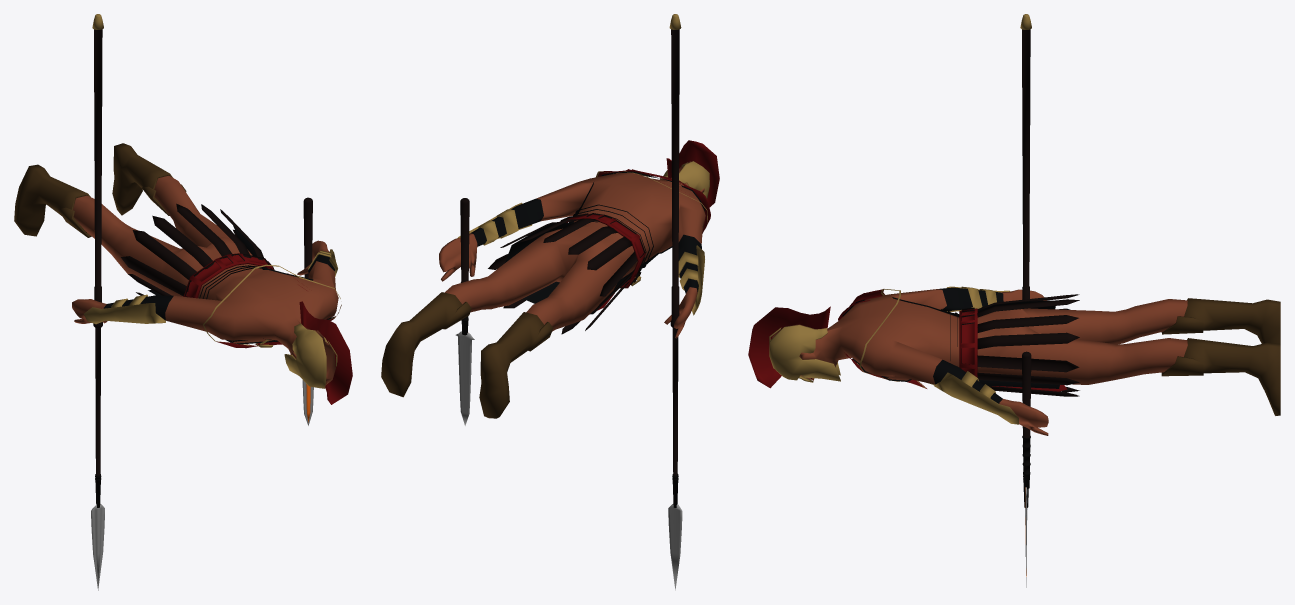
Rendered from soldier.obj.
The picture shows the model from 3 angles, left to right: view 1: azimuth 30°, elevation 25°; view 2: azimuth 150°, elevation 25°; view 3: azimuth 270°, elevation 25°; orthographic projection.
Parts seen in each view (by area): view 1: obj1, obj14, obj13, obj5, obj6, obj7, obj2, obj4, obj12, obj8, obj10; view 2: obj1, obj14, obj6, obj5, obj13, obj12, obj8, obj4, obj2, obj7, obj3, obj10; view 3: obj1, obj13, obj6, obj5, obj7, obj14, obj3, obj4, obj12, obj8.
Boxes of the visible parts, bbox=[...] form: obj1: bbox=[72, 175, 352, 404]; obj14: bbox=[91, 14, 104, 590]; obj13: bbox=[121, 203, 267, 296]; obj5: bbox=[14, 164, 91, 237]; obj6: bbox=[112, 143, 186, 215]; obj7: bbox=[284, 323, 337, 388]; obj2: bbox=[84, 294, 165, 324]; obj4: bbox=[183, 253, 274, 298]; obj12: bbox=[302, 197, 313, 425]; obj8: bbox=[148, 225, 334, 344]; obj10: bbox=[203, 264, 341, 348]; obj1: bbox=[439, 140, 719, 338]; obj14: bbox=[668, 14, 682, 590]; obj6: bbox=[381, 292, 471, 397]; obj5: bbox=[479, 312, 553, 418]; obj13: bbox=[488, 218, 637, 334]; obj12: bbox=[455, 198, 474, 425]; obj8: bbox=[505, 171, 705, 314]; obj4: bbox=[560, 213, 645, 288]; obj2: bbox=[678, 245, 704, 315]; obj7: bbox=[661, 161, 709, 198]; obj3: bbox=[457, 202, 532, 245]; obj10: bbox=[596, 169, 710, 233]; obj1: bbox=[748, 287, 1187, 435]; obj13: bbox=[977, 294, 1079, 396]; obj6: bbox=[1161, 338, 1280, 415]; obj5: bbox=[1161, 298, 1280, 343]; obj7: bbox=[769, 325, 840, 382]; obj14: bbox=[1020, 14, 1031, 587]; obj3: bbox=[933, 371, 1018, 424]; obj4: bbox=[959, 307, 977, 377]; obj12: bbox=[1022, 351, 1031, 576]; obj8: bbox=[842, 297, 1059, 388].
Size of the model in its own units: 1.96 by 4.36 by 3.65.
